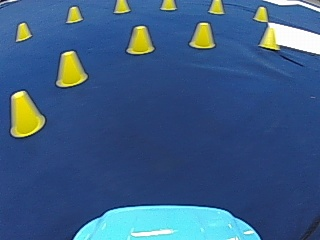cone: (9, 89, 44, 136), (54, 49, 87, 87), (126, 24, 154, 54), (188, 21, 215, 49), (259, 26, 277, 48), (15, 21, 31, 41), (65, 5, 82, 23), (253, 6, 268, 22), (208, 0, 223, 14), (113, 0, 129, 13), (160, 0, 176, 10)
